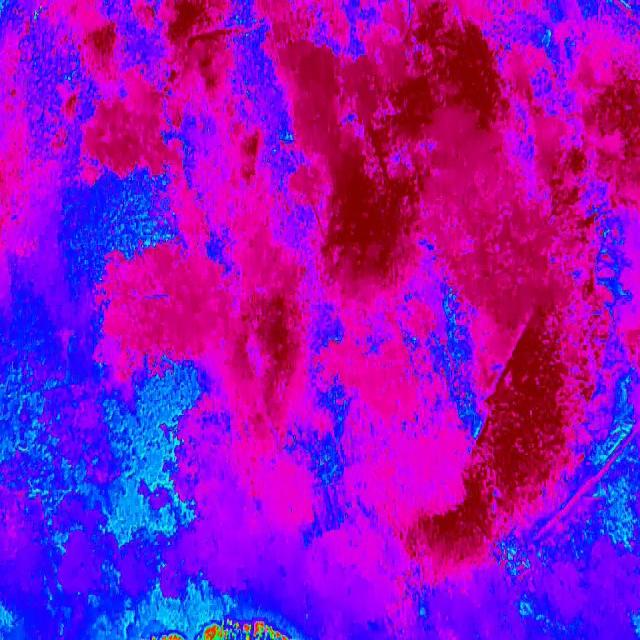fire: (149, 616, 292, 640)
